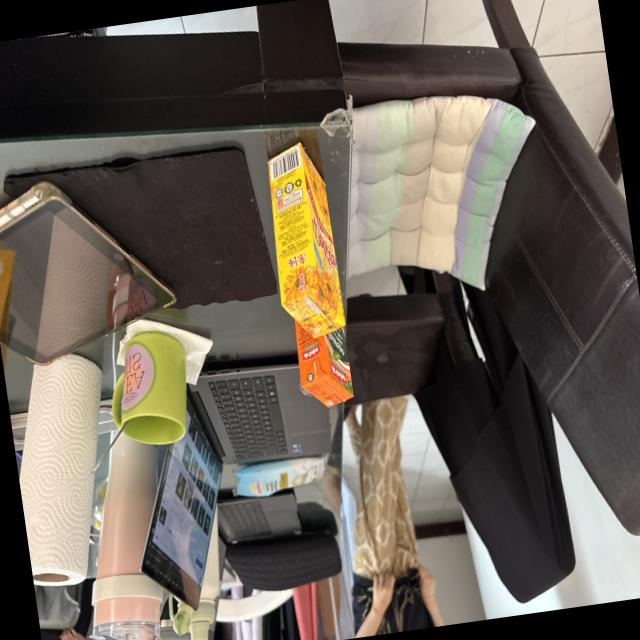drink_carton: (254, 129, 359, 348), (287, 311, 361, 421)
